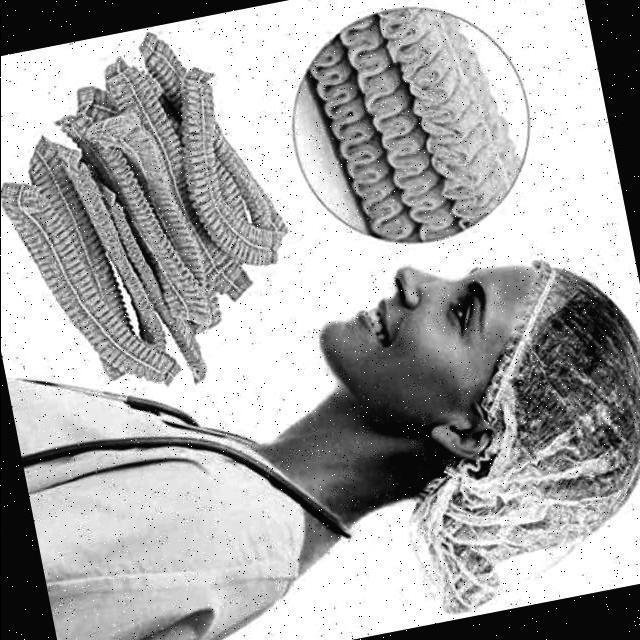no_hairnet: (343, 277, 459, 393)
